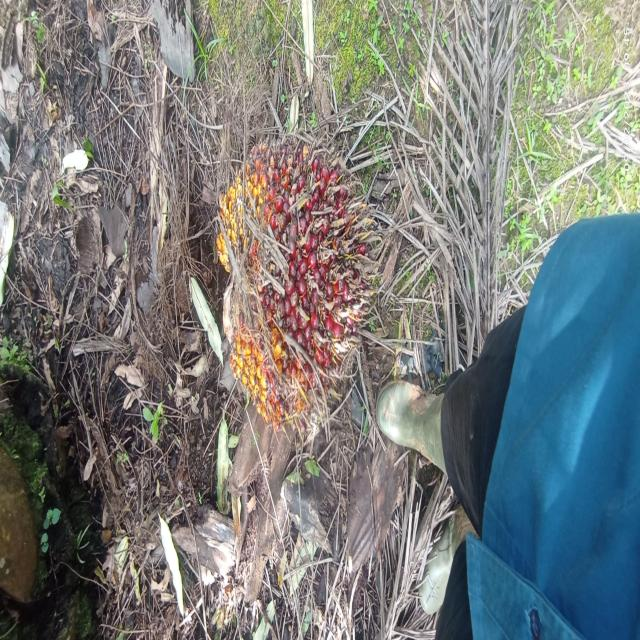fraksi 3: (210, 68, 378, 461)
